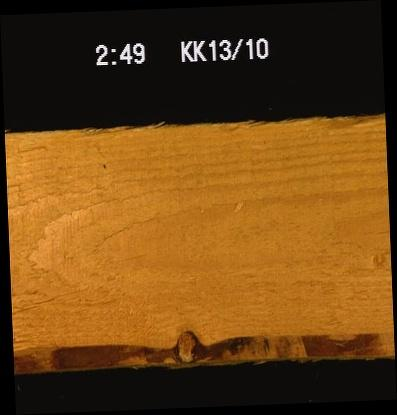split: (11, 282, 96, 313)
wave: (13, 327, 394, 364), (298, 115, 384, 131)
